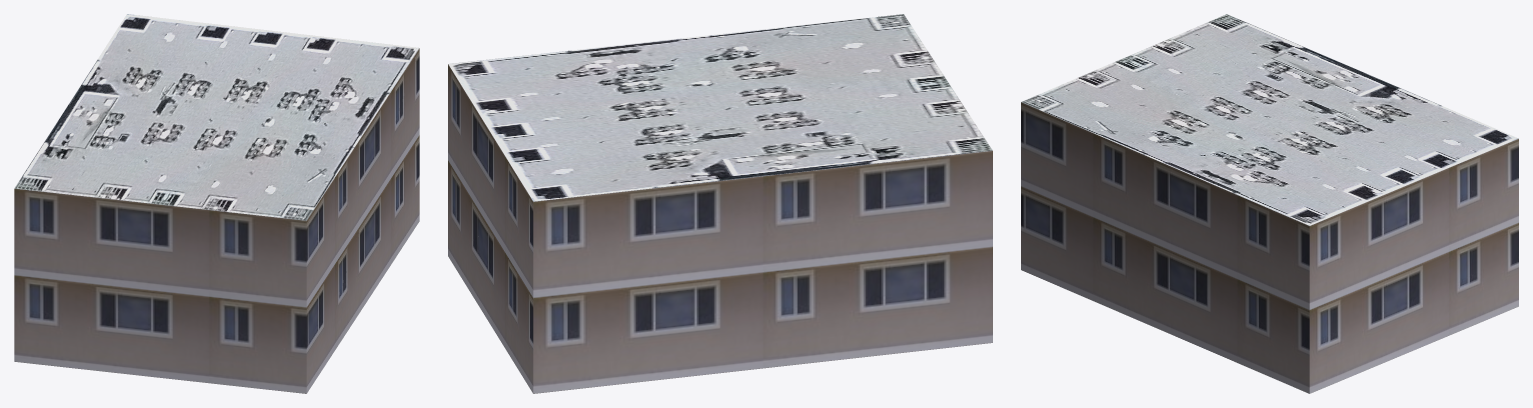
File: ResTex__1584.fbx
3 renders of one model, left to right at view 1: azimuth 30°, elevation 25°; view 2: azimuth 150°, elevation 25°; view 3: azimuth 270°, elevation 25°, orthographic. The views are drawn at different scales.
Parts seen in each view (by area): view 1: CityEngineMaterial_21_m, CityEngineMaterial_2_m; view 2: CityEngineMaterial_21_m, CityEngineMaterial_2_m; view 3: CityEngineMaterial_21_m, CityEngineMaterial_2_m.
Boxes of the visible parts, x1,y1,x2,y2 form: CityEngineMaterial_21_m: (14, 48, 419, 393); CityEngineMaterial_2_m: (14, 14, 419, 220); CityEngineMaterial_21_m: (448, 64, 992, 393); CityEngineMaterial_2_m: (448, 14, 992, 201); CityEngineMaterial_21_m: (1021, 102, 1518, 393); CityEngineMaterial_2_m: (1021, 14, 1518, 225).
Bounding box in the file's own units: 16.24 × 6 × 16.11.
2 materials, 2 textured.
